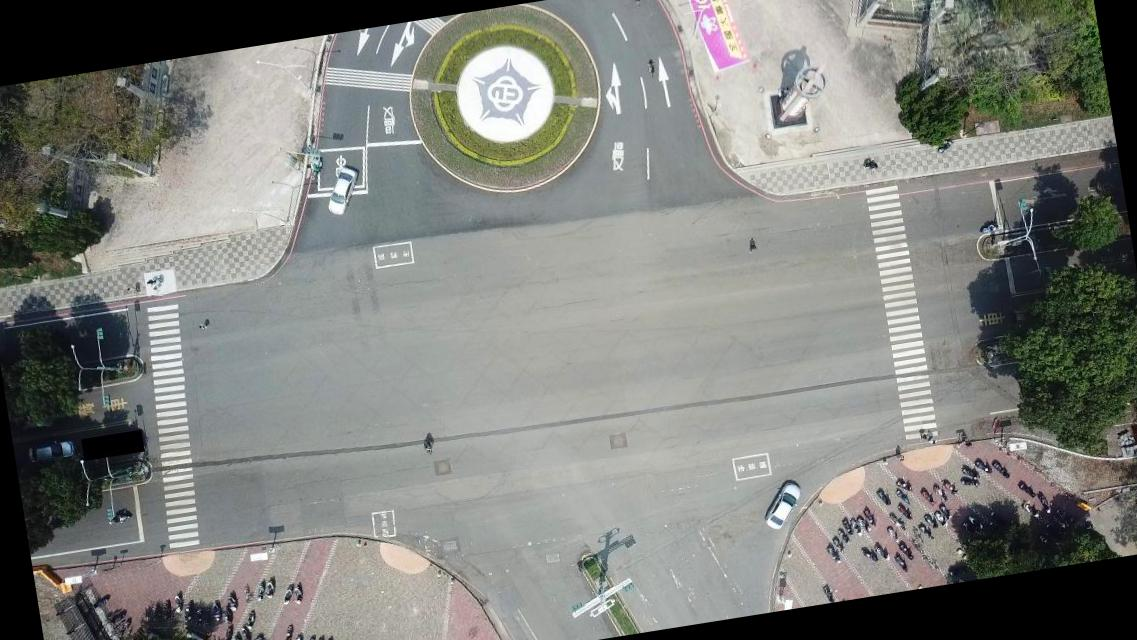vehicle: (755, 476, 806, 533), (319, 162, 366, 218), (24, 434, 78, 468)
